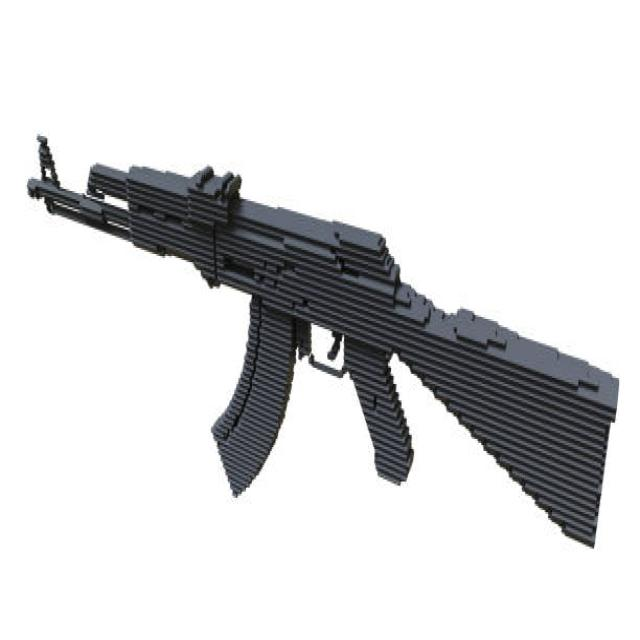rifle: (26, 125, 623, 559)
